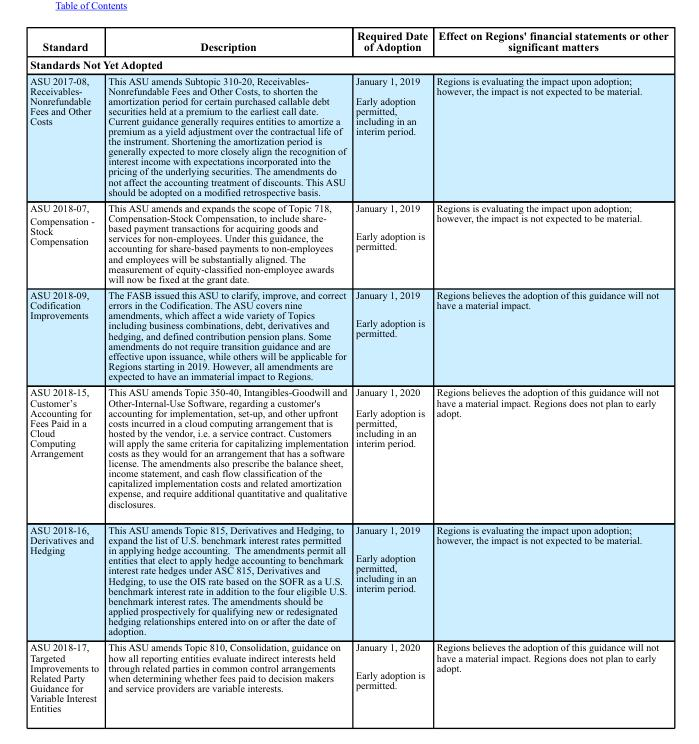table: (29, 28, 667, 713)
table column: (102, 28, 351, 713), (431, 28, 667, 713), (351, 28, 431, 713), (29, 28, 102, 713)
table column header: (29, 28, 667, 55)
table projected row header: (29, 55, 667, 72)
table row: (29, 383, 667, 516), (29, 72, 667, 199), (29, 516, 667, 638), (29, 286, 667, 383), (29, 199, 667, 286), (29, 638, 667, 713), (29, 28, 667, 55), (29, 55, 667, 72)
